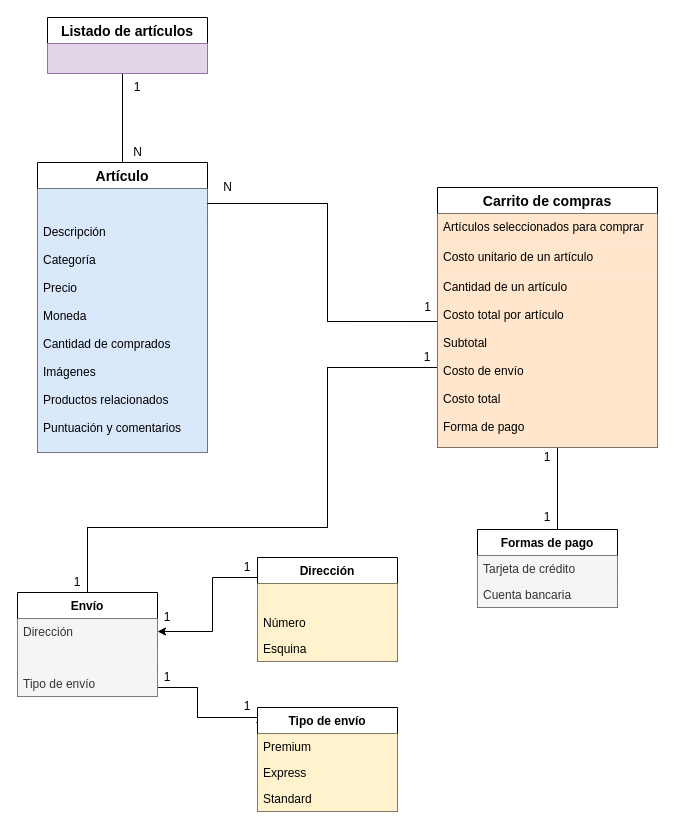
This 675x832 diagram has some shape labels left out. Each missing label, with the centre of its shape:
Artículos: (x=127, y=58)
Calle: (x=327, y=596)
Nombre: (x=122, y=203)
País: (x=87, y=657)
